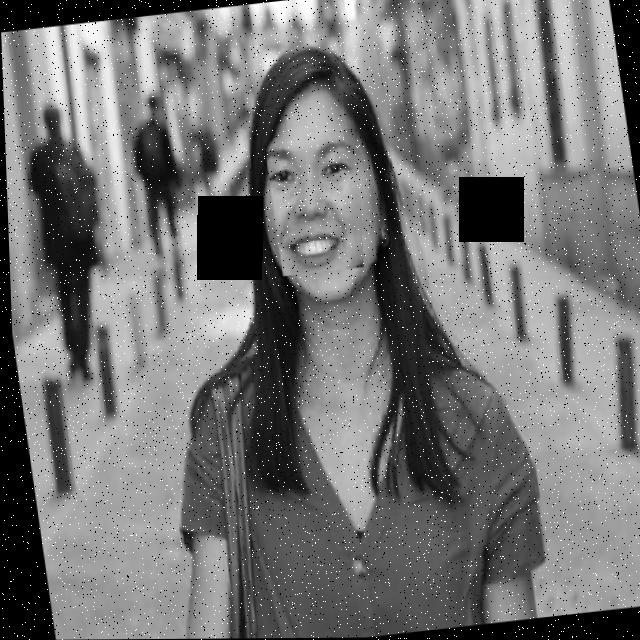happy: (262, 128, 375, 276)
